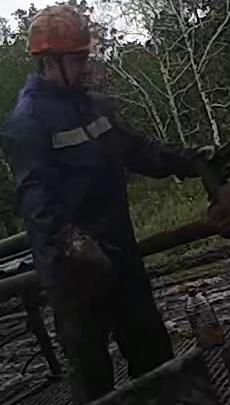gloves: (50, 223, 128, 284), (178, 142, 228, 184)
helmet: (25, 4, 92, 56)
vest: (5, 88, 149, 295)
